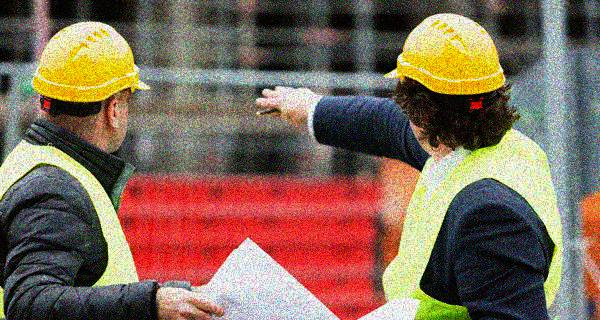helmet: (383, 12, 512, 155), (29, 18, 153, 156)
